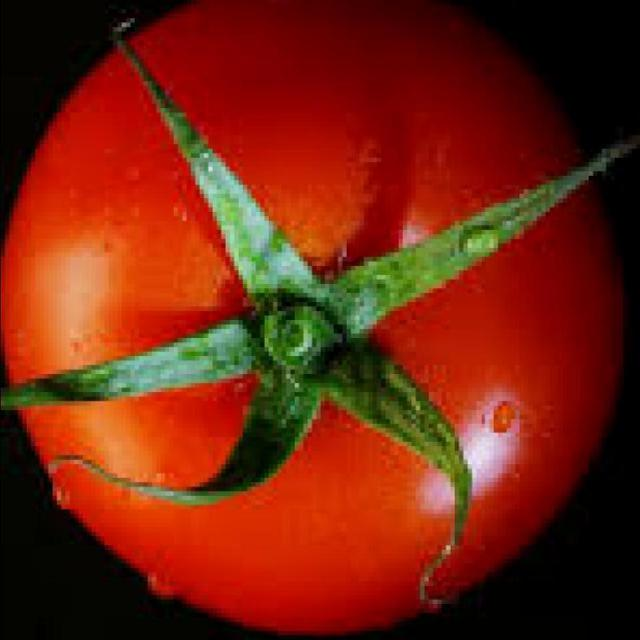Healthy Fruit: (9, 2, 406, 427)
